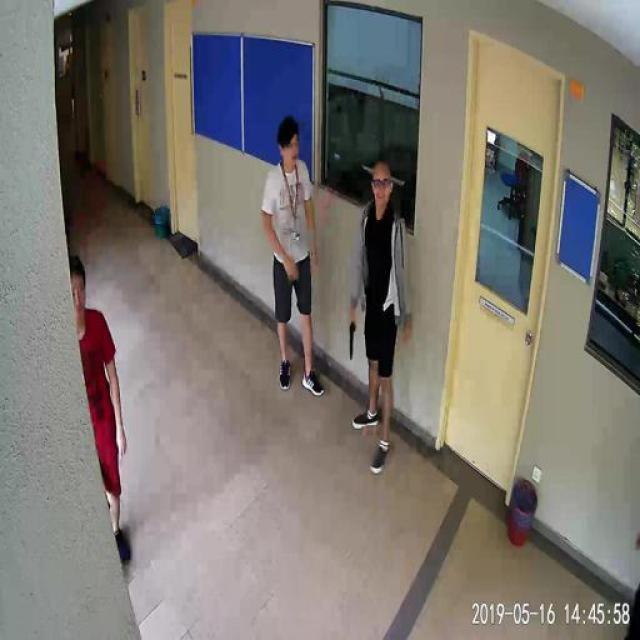weapon: (347, 312, 359, 363)
